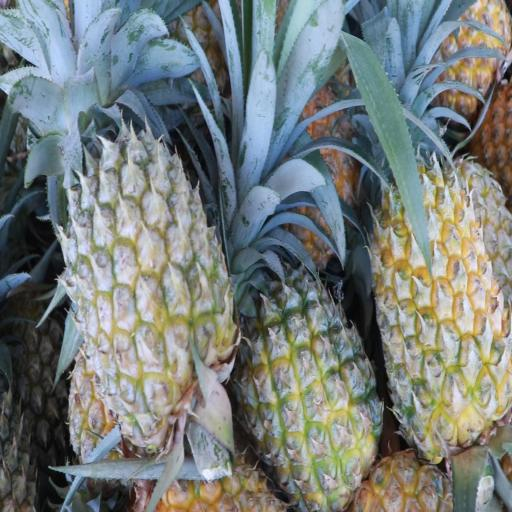------------------------------: (74, 140, 233, 442)
Pineapple - v8 v1: (375, 170, 512, 458), (243, 275, 378, 502), (423, 0, 512, 105)
